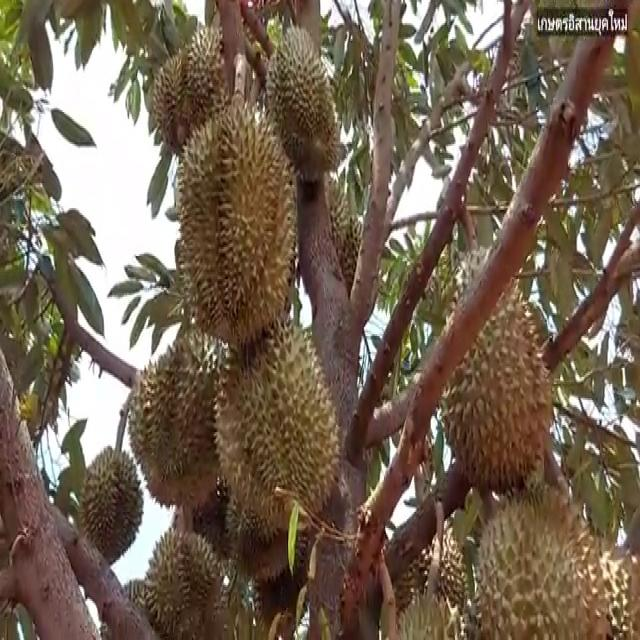durian: (429, 243, 560, 501), (170, 94, 300, 348), (212, 315, 347, 535), (454, 472, 623, 638), (125, 328, 239, 517), (262, 20, 351, 186), (144, 22, 237, 162), (141, 518, 235, 634), (75, 436, 146, 569), (384, 571, 467, 638)
